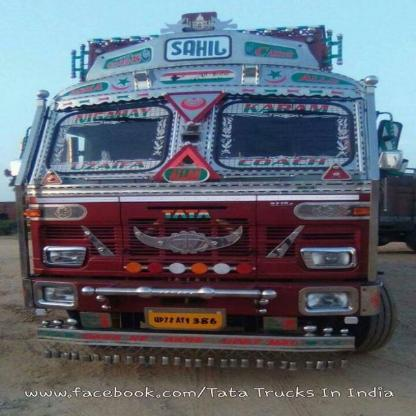truck: (17, 25, 398, 366)
